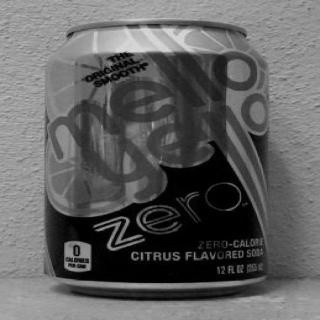alumunium_can: (43, 18, 271, 301)
